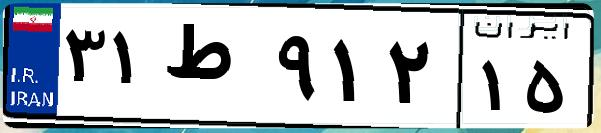1: (330, 28, 385, 110), (475, 38, 525, 113), (110, 28, 158, 98)
2: (385, 28, 445, 110)
3: (57, 26, 110, 100)
5: (525, 38, 570, 115)
9: (270, 28, 330, 110)
ط: (158, 20, 270, 120)
